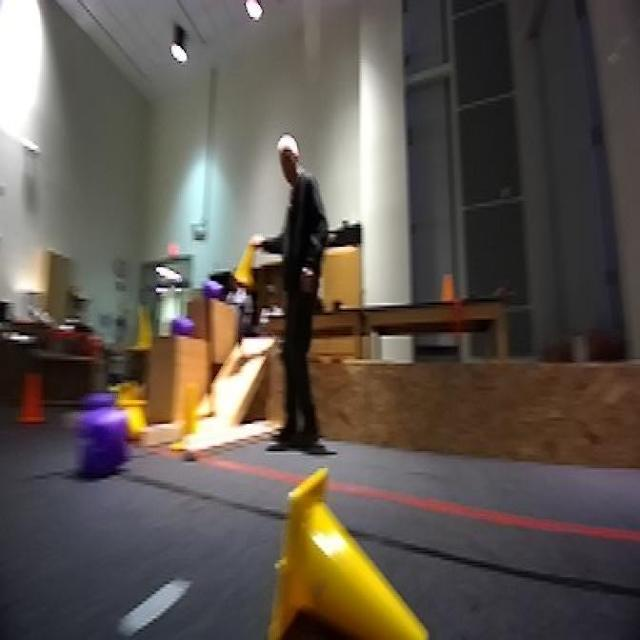frc_cone: (264, 468, 434, 640), (172, 383, 201, 451), (228, 243, 264, 293), (130, 303, 154, 356), (126, 395, 150, 439), (111, 374, 144, 404)
frc_cube: (78, 410, 128, 485), (167, 310, 198, 334), (197, 278, 223, 302), (83, 392, 114, 410)
